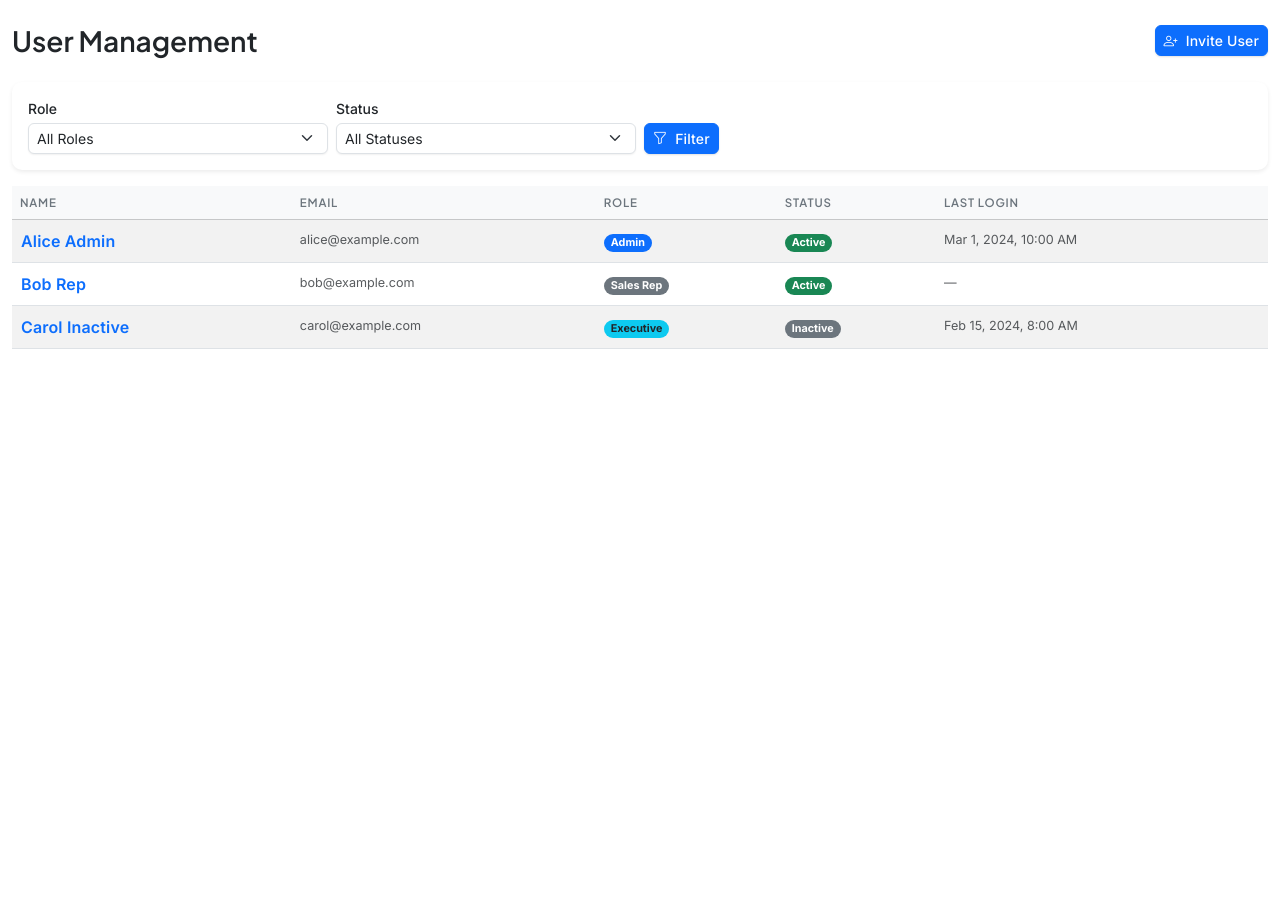
Test: edit drawer › opens when Edit Role button is clicked in view slideout
The image size is (1280, 900).
Click the button with aria-label "view user alice admin" at coordinates (68, 241), box [20,228,116,254]
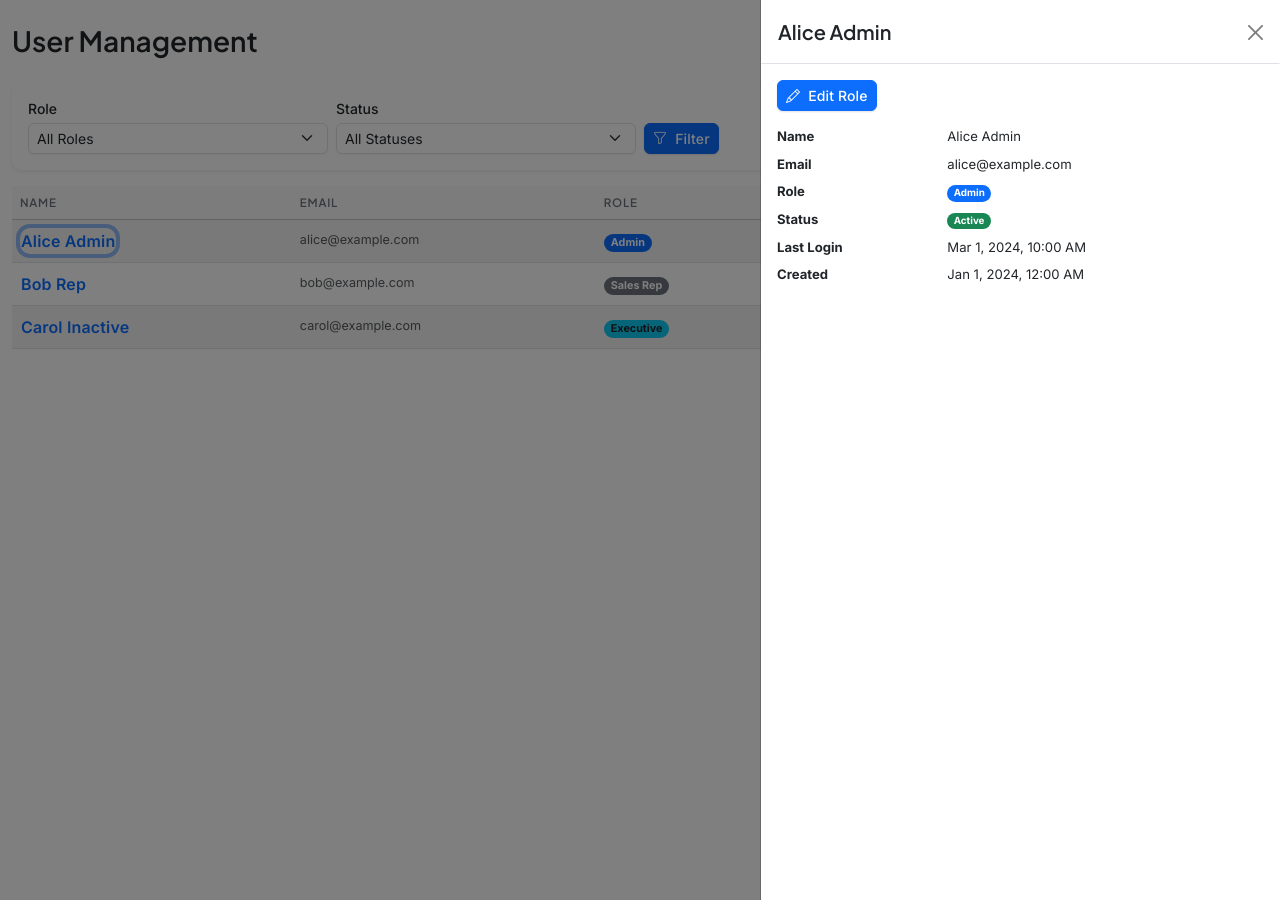
Click the button with aria-label "edit role for alice admin" at coordinates (827, 96), box [777,80,877,111]
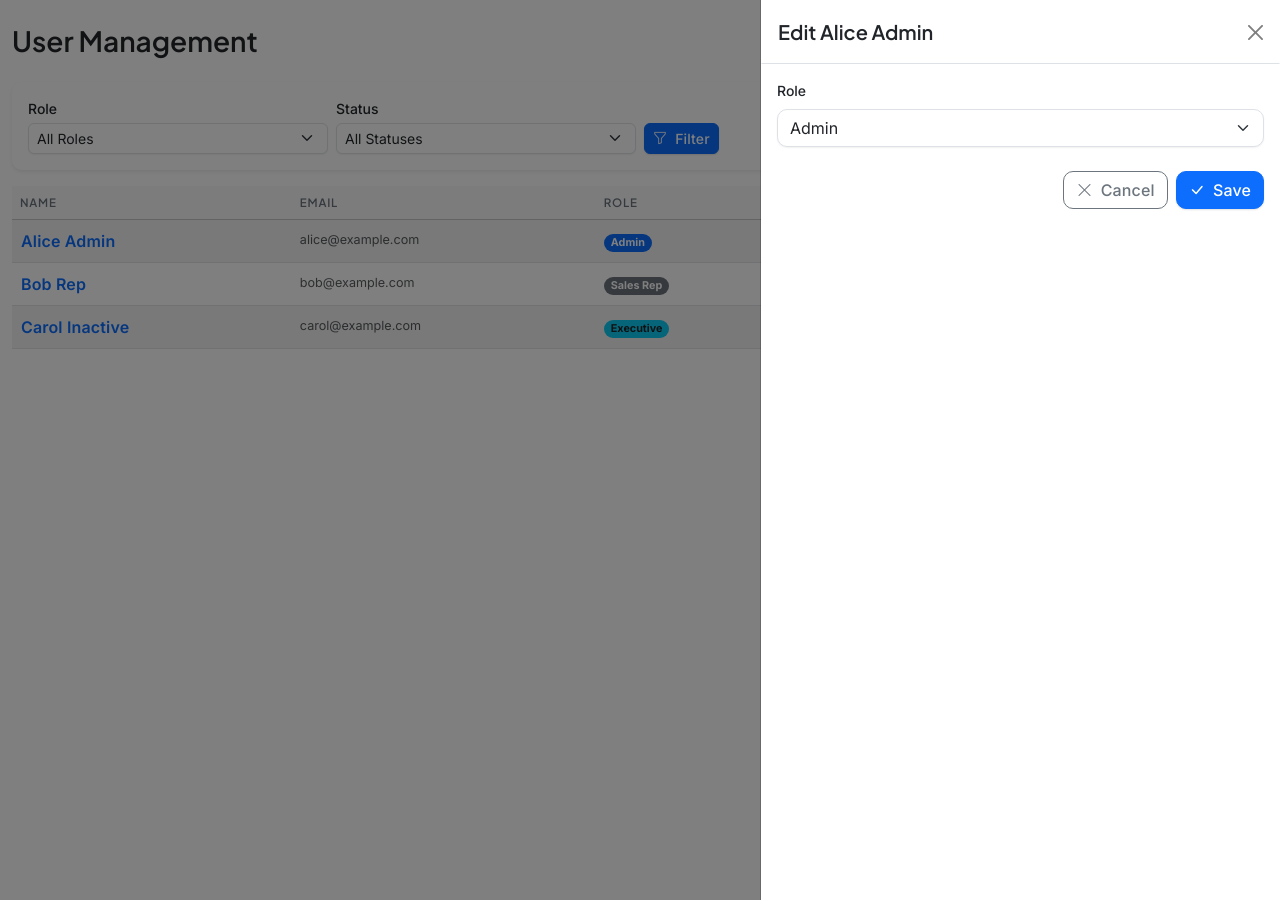
Check: the dialog "Edit Alice Admin Role Cancel Save" is shown, box [760,0,1279,899]
